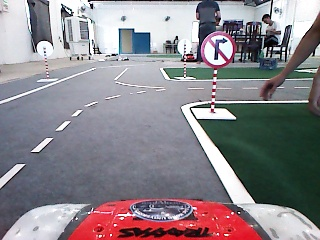ban_right: (201, 31, 236, 67)
